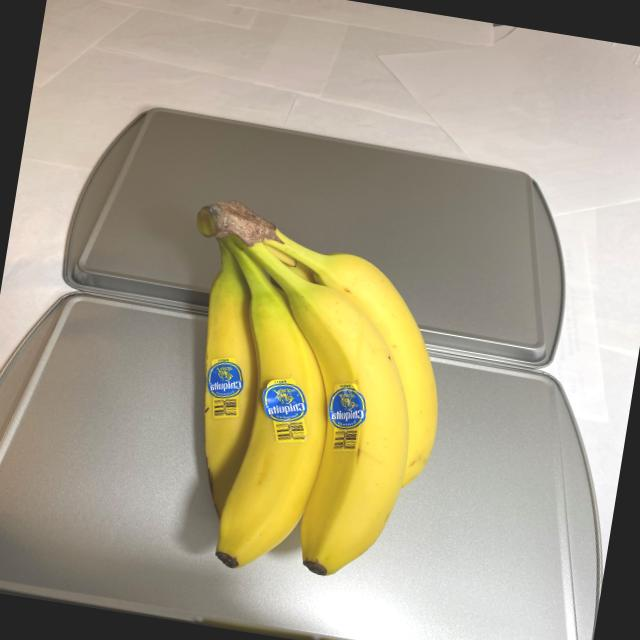banana: (138, 192, 478, 608)
